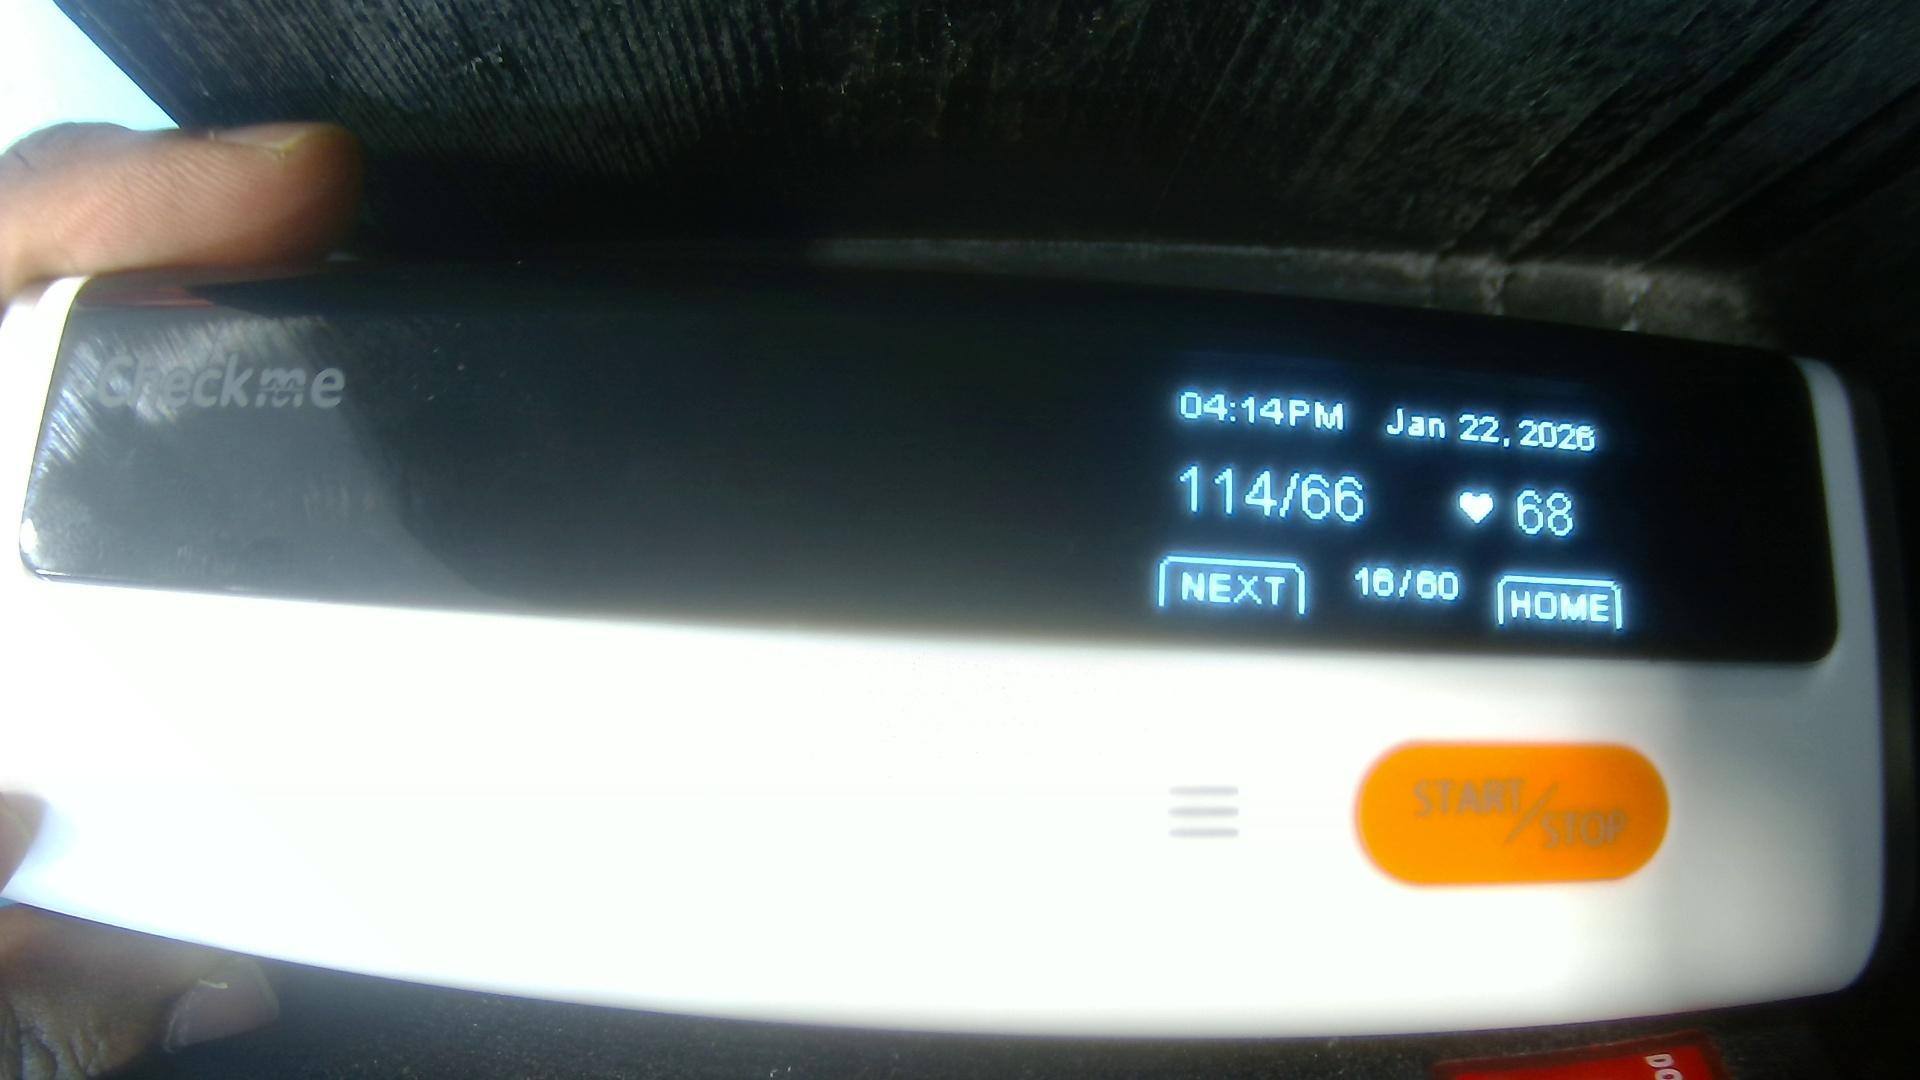DISPLAY: (27, 284, 1811, 654)
